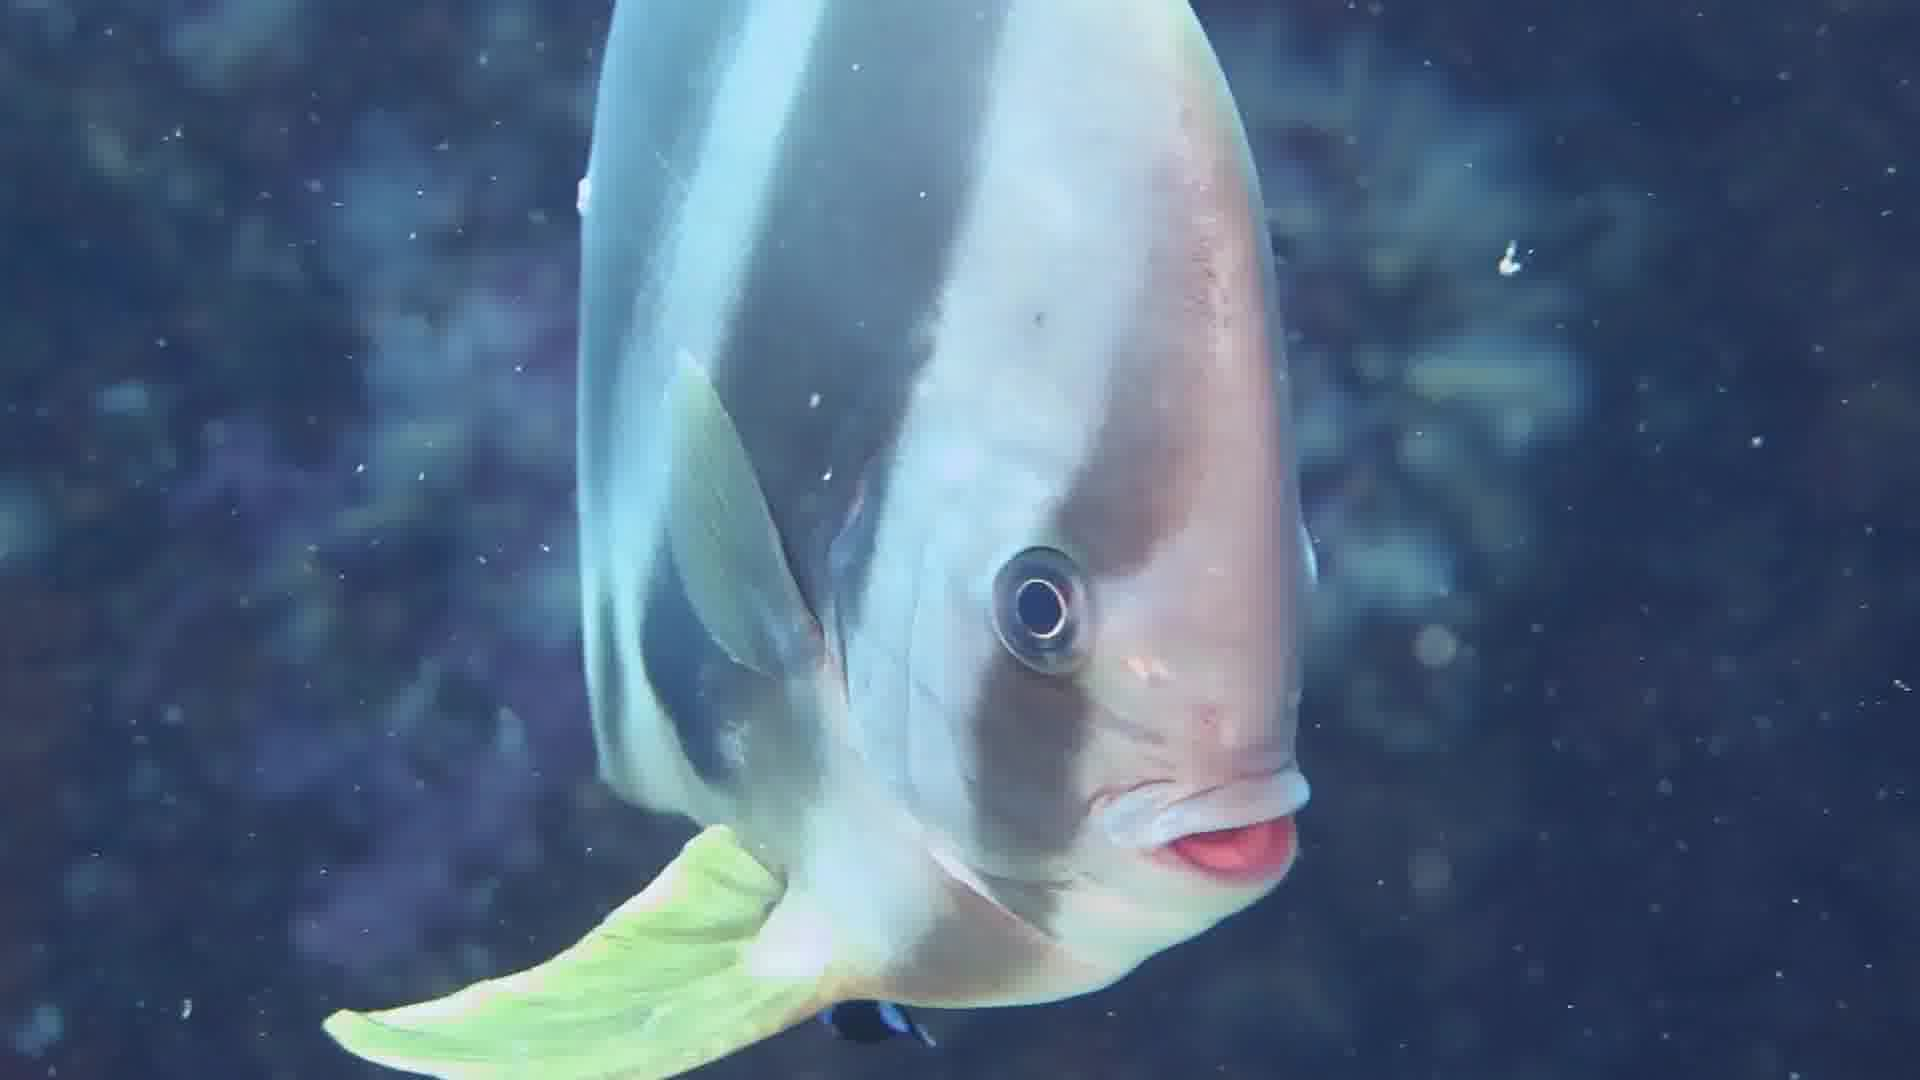Platax teira: (331, 1, 1379, 1080)
